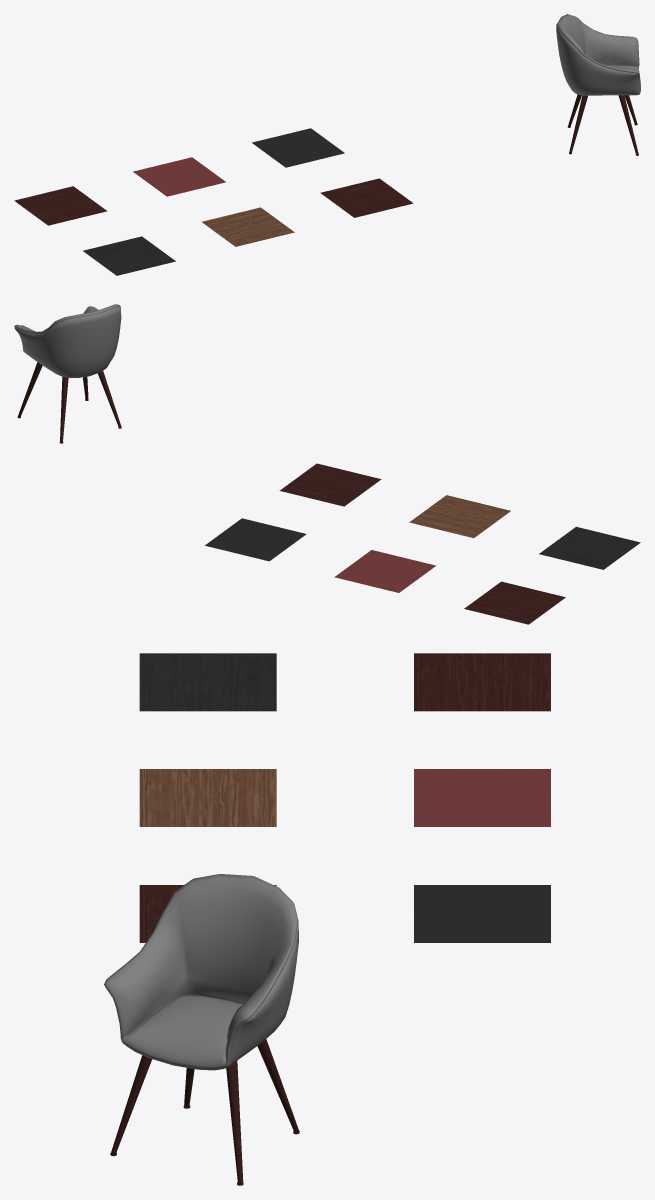
Rendered from armchair.glb.
3 renders of one model, top to bottom at view 1: azimuth 30°, elevation 25°; view 2: azimuth 150°, elevation 25°; view 3: azimuth 270°, elevation 25°, orthographic. The views are drawn at different scales.
Visible parts, largest first — view 1: armchairBase, armchairFoot_red_mat, armchairBase_red_mat, armchairFoot_red_mat.001, armchairBase_black_mat, armchairFoot_black_mat, armchairFoot_brown_mat, armchairFoot; view 2: armchairBase, armchairFoot_red_mat, armchairFoot_brown_mat, armchairBase_black_mat, armchairFoot_black_mat, armchairFoot_red_mat.001, armchairBase_red_mat, armchairFoot; view 3: armchairBase, armchairFoot_black_mat, armchairFoot_red_mat, armchairFoot_brown_mat, armchairBase_black_mat, armchairBase_red_mat, armchairFoot, armchairFoot_red_mat.001.
Part boxes in pixels (x1,y1,x2,y2): armchairBase: (556,14,640,95); armchairFoot_red_mat: (14,186,107,225); armchairBase_red_mat: (133,157,225,196); armchairFoot_red_mat.001: (320,178,413,217); armchairBase_black_mat: (252,128,344,167); armchairFoot_black_mat: (83,236,175,275); armchairFoot_brown_mat: (201,207,294,246); armchairFoot: (567,94,638,155); armchairBase: (14,304,121,377); armchairFoot_red_mat: (464,581,565,624); armchairFoot_brown_mat: (409,495,510,538); armchairBase_black_mat: (205,518,306,561); armchairFoot_black_mat: (539,526,640,569); armchairFoot_red_mat.001: (279,463,381,506); armchairBase_red_mat: (334,550,435,592); armchairFoot: (17,362,121,443); armchairBase: (104,874,298,1070); armchairFoot_black_mat: (139,653,276,711); armchairFoot_red_mat: (414,653,550,711); armchairFoot_brown_mat: (139,769,276,826); armchairBase_black_mat: (414,885,550,942); armchairBase_red_mat: (414,769,550,826); armchairFoot: (110,1039,299,1185); armchairFoot_red_mat.001: (139,885,276,942).
Bounding box in the file's own units: 4.61 × 0.9456 × 1.63.
Materials: 6 (6 with a texture image).
